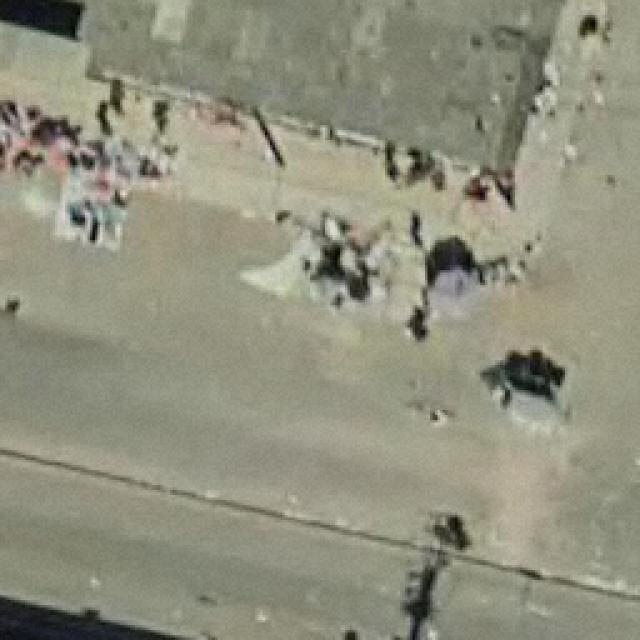vendedor_ambulante: (423, 264, 490, 328)
